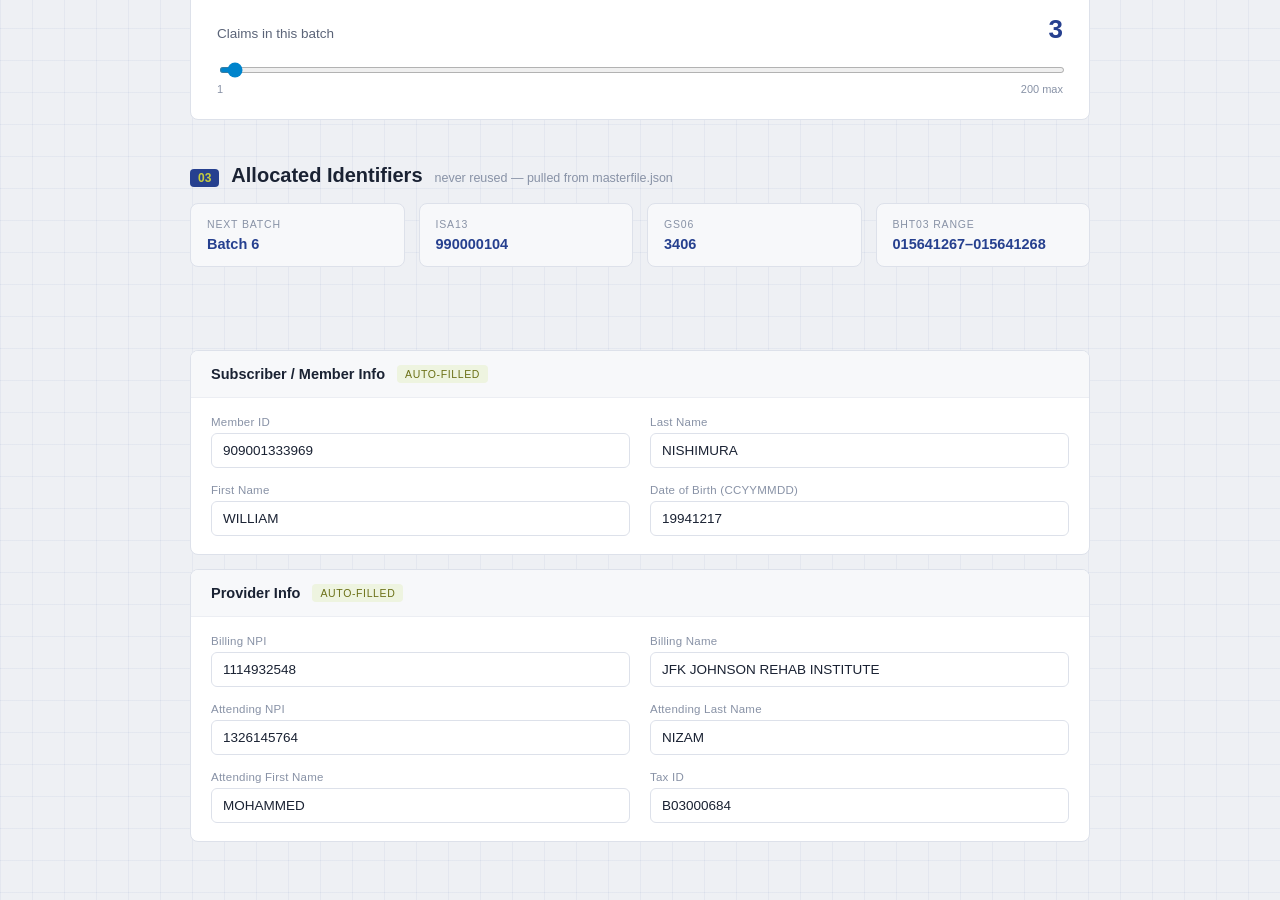
the generate button › walks gray -> blue -> green
This screenshot has width=1280, height=900.
(page scrolled)
Step 1. Clear the field labelled "Member ID" → (420, 450), box [211,432,630,468]
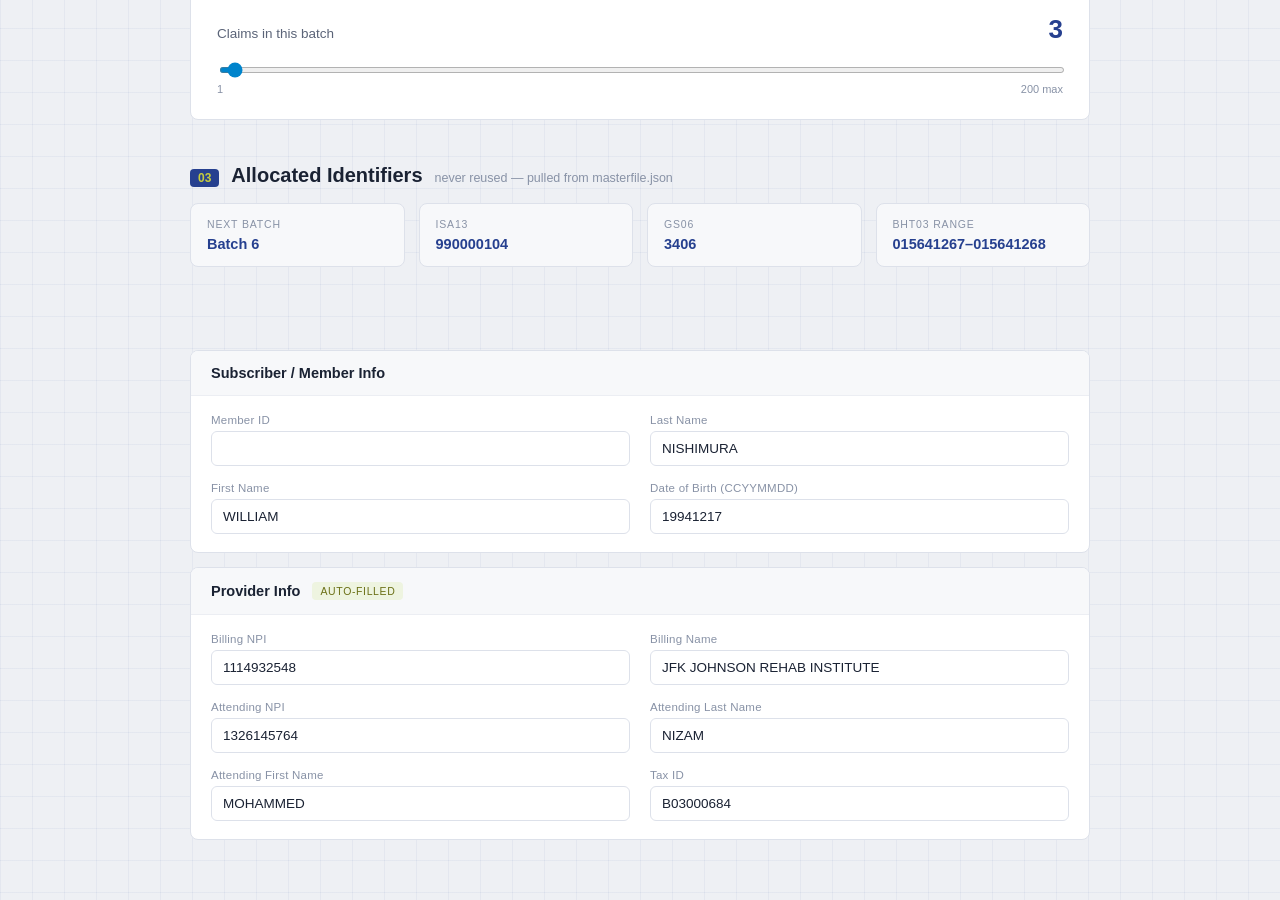
Step 2. Type "909001333969" into the field labelled "Member ID" → (420, 448), box [211,430,630,466]
(page scrolled)
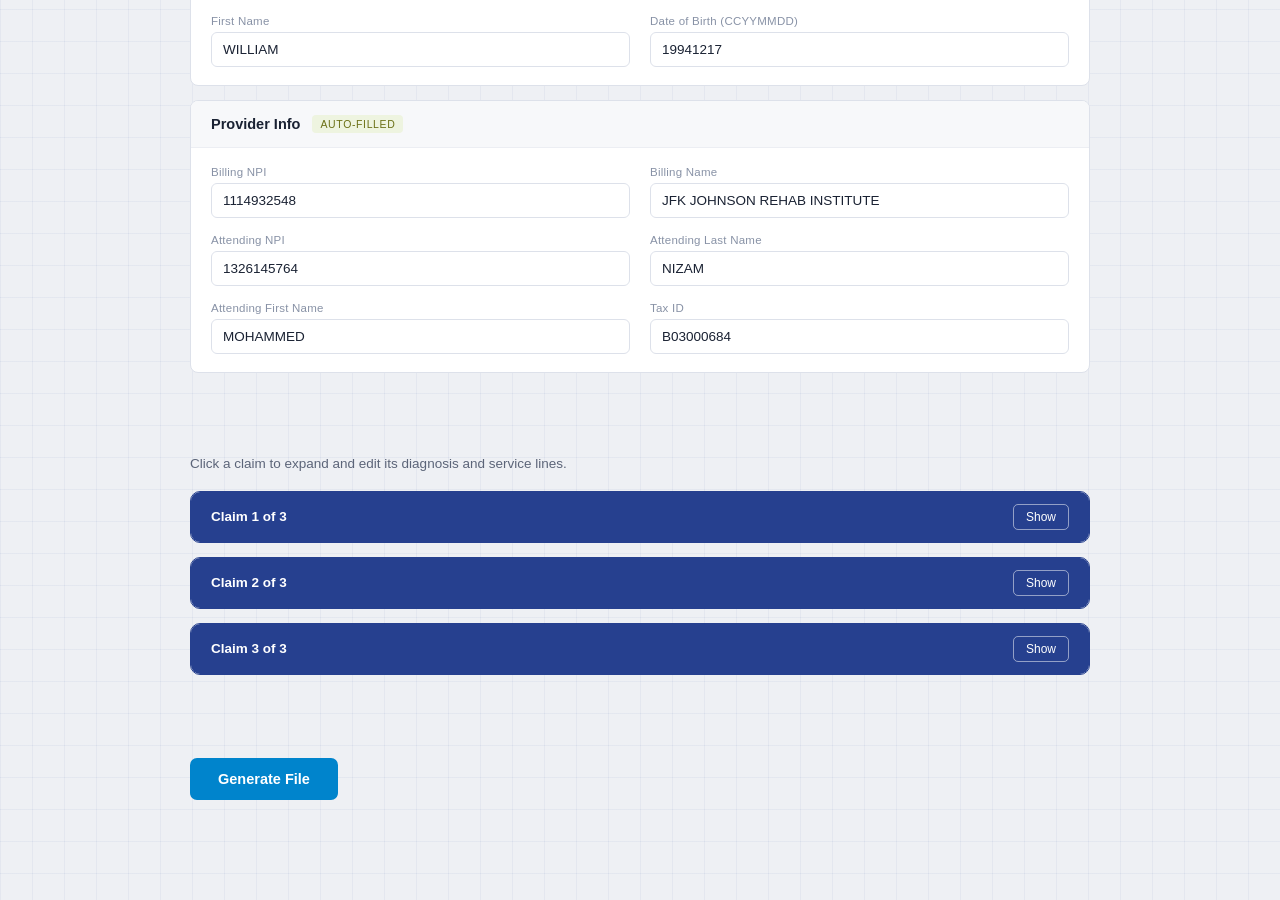
Step 3. Click the button "Generate File" → (264, 778), box [190,758,338,800]
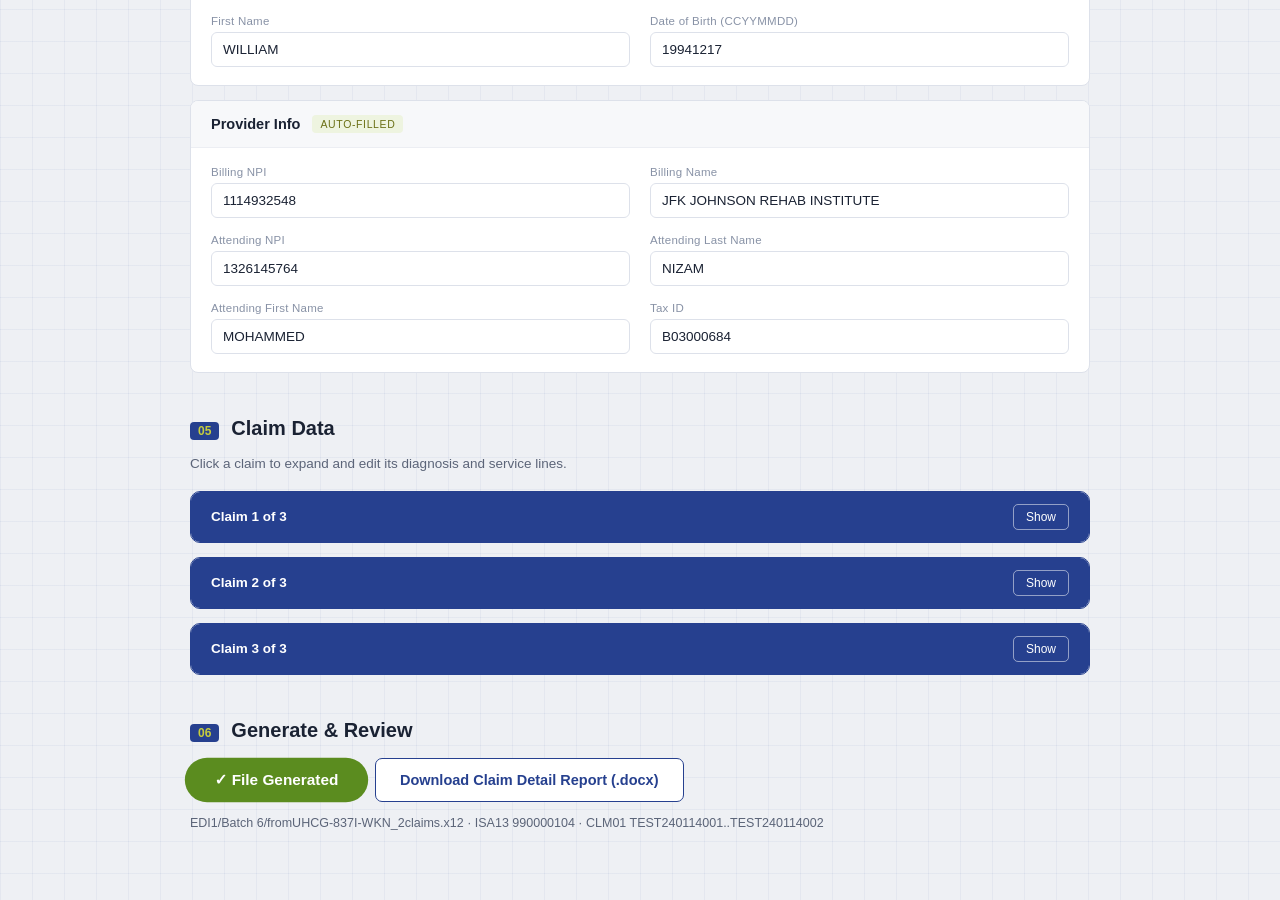
Expected: the button "✓ File Generated" is shown, [185,757,368,802]
